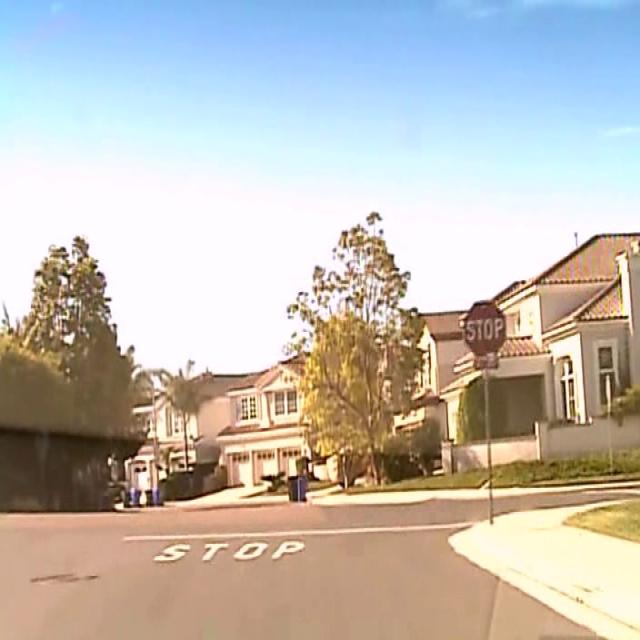stop_sign: (464, 300, 506, 357)
